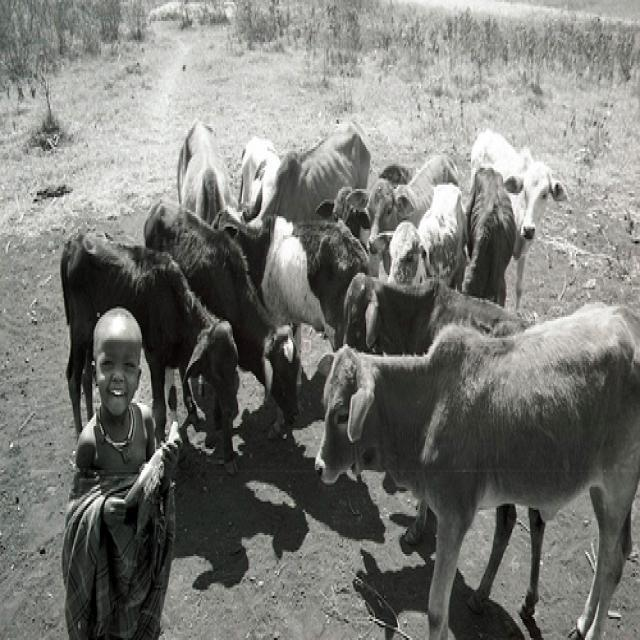cow: (307, 309, 639, 626), (59, 227, 239, 460), (141, 193, 297, 418), (210, 185, 367, 353), (470, 124, 568, 311), (342, 271, 518, 348), (258, 120, 370, 218), (347, 151, 461, 246), (369, 179, 466, 286), (460, 162, 514, 304), (312, 185, 388, 277), (177, 116, 233, 221), (235, 135, 281, 223)
